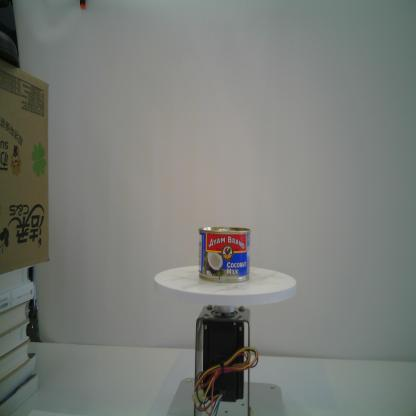Canned Food: (198, 224, 252, 282)
